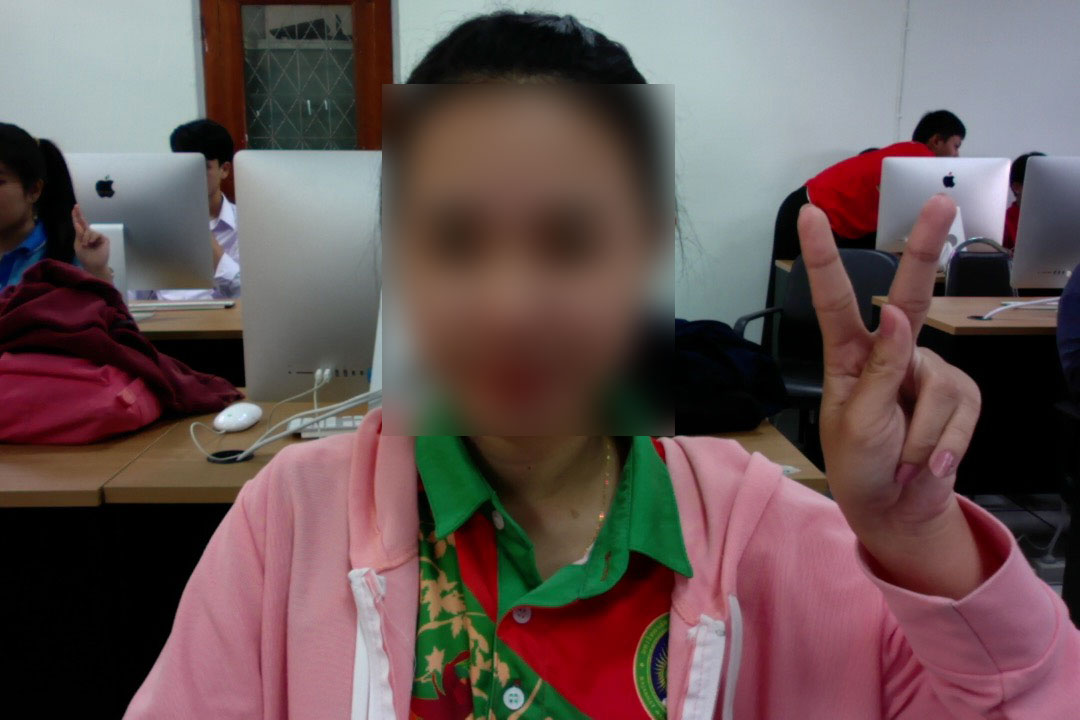ko: (788, 185, 992, 558)
